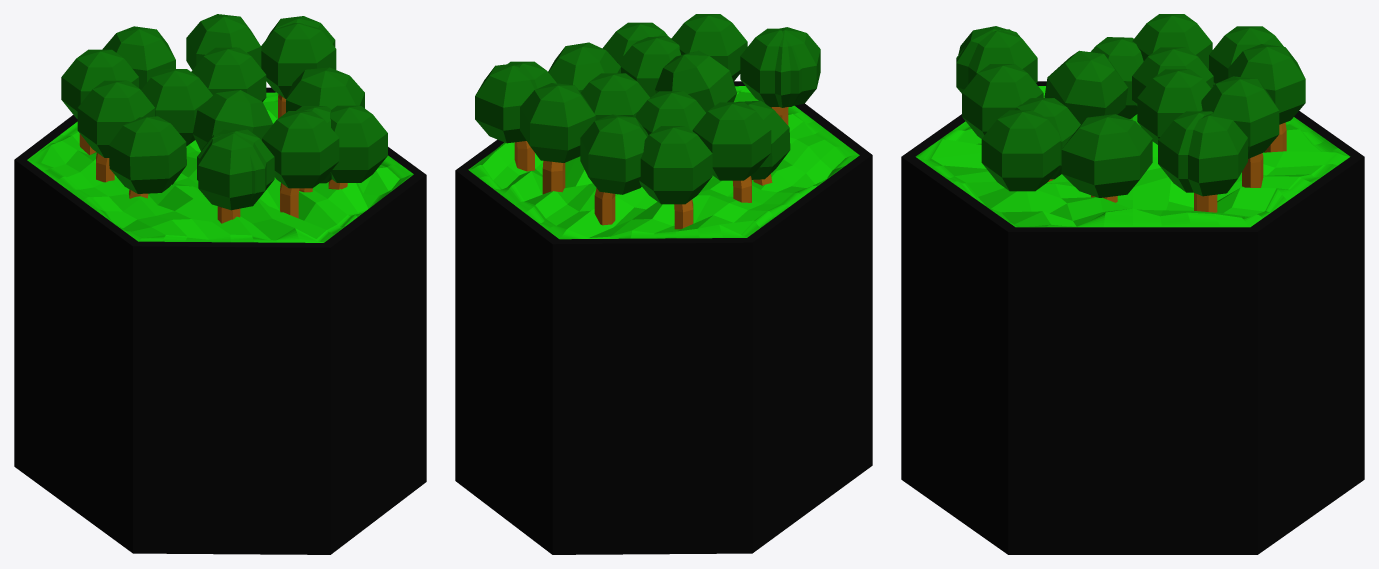
File: forest-hex.obj
3 renders of one model, left to right at view 1: azimuth 30°, elevation 25°; view 2: azimuth 150°, elevation 25°; view 3: azimuth 270°, elevation 25°, orthographic. The views are drawn at different scales.
Parts seen in each view (by area): view 1: Cube_Cube.001, Sphere.009_Sphere.016, Sphere.012_Sphere.018, Sphere.011_Sphere, Sphere.021_Sphere.030, Sphere.007_Sphere.014, Sphere.018_Sphere.027, Sphere.008_Sphere.015, Sphere.002_Sphere.001, Sphere.003_Sphere.002, Sphere.006_Sphere.007, Sphere.016_Sphere.025 (+4 smaller); view 2: Cube_Cube.001, Sphere.006_Sphere.007, Sphere.004_Sphere.003, Sphere.007_Sphere.014, Sphere.005_Sphere.004, Sphere.020_Sphere.029, Sphere.002_Sphere.001, Sphere.010_Sphere.017, Sphere.012_Sphere.018, Sphere.011_Sphere, Sphere.003_Sphere.002, Sphere.016_Sphere.025 (+8 smaller); view 3: Cube_Cube.001, Sphere.016_Sphere.025, Sphere.018_Sphere.027, Sphere.002_Sphere.001, Sphere.020_Sphere.029, Sphere.004_Sphere.003, Sphere.012_Sphere.018, Sphere.005_Sphere.004, Sphere.003_Sphere.002, Sphere.007_Sphere.014, Sphere.010_Sphere.017, Sphere.021_Sphere.030 (+6 smaller).
Part boxes in pixels (x1,y1,x2,y2): Cube_Cube.001: (14, 87, 426, 554); Sphere.009_Sphere.016: (109, 116, 186, 193); Sphere.012_Sphere.018: (262, 111, 339, 188); Sphere.011_Sphere: (198, 133, 266, 210); Sphere.021_Sphere.030: (261, 23, 336, 98); Sphere.007_Sphere.014: (77, 80, 155, 157); Sphere.018_Sphere.027: (330, 105, 387, 182); Sphere.008_Sphere.015: (141, 69, 212, 146); Sphere.002_Sphere.001: (193, 90, 272, 151); Sphere.003_Sphere.002: (191, 47, 266, 101); Sphere.006_Sphere.007: (61, 49, 138, 118); Sphere.016_Sphere.025: (286, 67, 364, 112); Cube_Cube.001: (455, 81, 872, 554); Sphere.006_Sphere.007: (639, 126, 712, 204); Sphere.004_Sphere.003: (520, 83, 595, 162); Sphere.007_Sphere.014: (692, 102, 771, 180); Sphere.005_Sphere.004: (580, 114, 648, 194); Sphere.020_Sphere.029: (475, 64, 534, 143); Sphere.002_Sphere.001: (655, 50, 736, 112); Sphere.010_Sphere.017: (740, 28, 801, 106); Sphere.012_Sphere.018: (671, 14, 747, 81); Sphere.011_Sphere: (775, 27, 820, 107); Sphere.003_Sphere.002: (581, 73, 649, 120); Sphere.016_Sphere.025: (548, 42, 620, 92); Cube_Cube.001: (901, 81, 1364, 554); Sphere.016_Sphere.025: (1061, 114, 1152, 197); Sphere.018_Sphere.027: (981, 110, 1060, 191); Sphere.002_Sphere.001: (1044, 50, 1128, 124); Sphere.020_Sphere.029: (1188, 113, 1247, 196); Sphere.004_Sphere.003: (1201, 76, 1279, 158); Sphere.012_Sphere.018: (962, 64, 1043, 138); Sphere.005_Sphere.004: (1228, 44, 1305, 124); Sphere.003_Sphere.002: (1137, 69, 1211, 144); Sphere.007_Sphere.014: (1132, 14, 1212, 69); Sphere.010_Sphere.017: (956, 29, 1037, 84); Sphere.021_Sphere.030: (1158, 111, 1213, 192).
Size of the model in its own units: 2 by 2.65 by 2.6.
